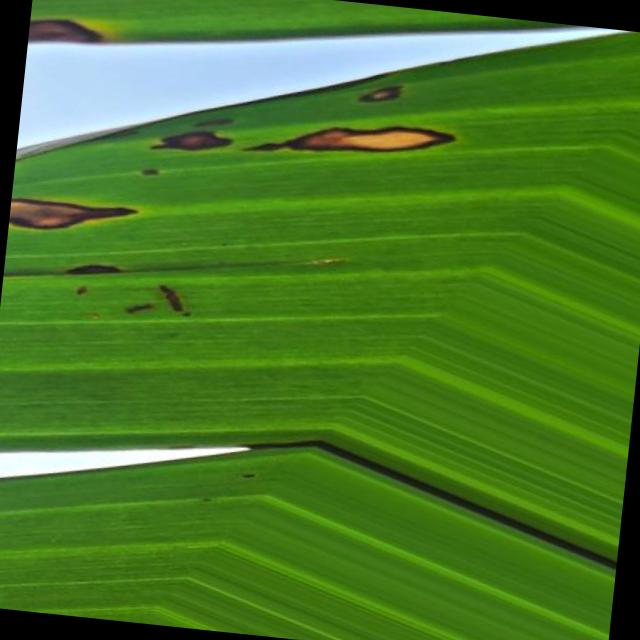Banana_Black_Sigatoka: (2, 27, 440, 325)
